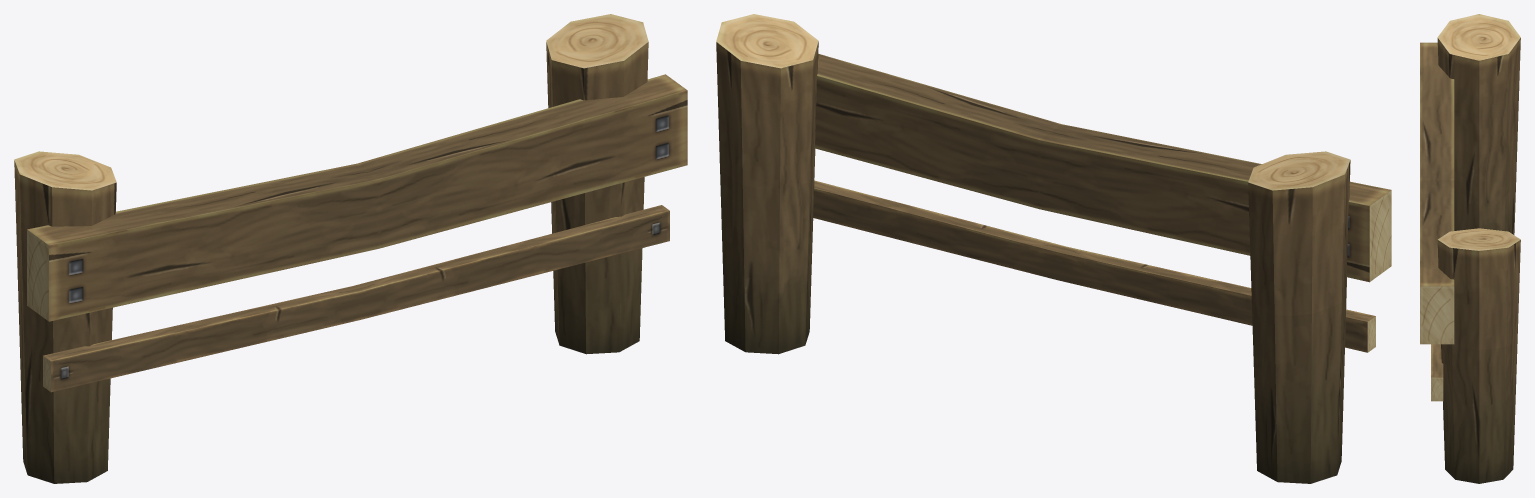
Rendered from wooden_fence_55.fbx.
3 views of the same model, side by side, from view 1: azimuth 30°, elevation 25°; view 2: azimuth 150°, elevation 25°; view 3: azimuth 270°, elevation 25° (orthographic). The views are drawn at different scales.
Visible parts, largest first — view 1: wooden_fence_55:Mesh; view 2: wooden_fence_55:Mesh; view 3: wooden_fence_55:Mesh.
Boxes of the visible parts, x1,y1,x2,y2 form: wooden_fence_55:Mesh: (14,14,687,483); wooden_fence_55:Mesh: (716,14,1391,483); wooden_fence_55:Mesh: (1420,14,1520,483).
Bounding box in the file's own units: 6.53 × 2.96 × 1.15.
